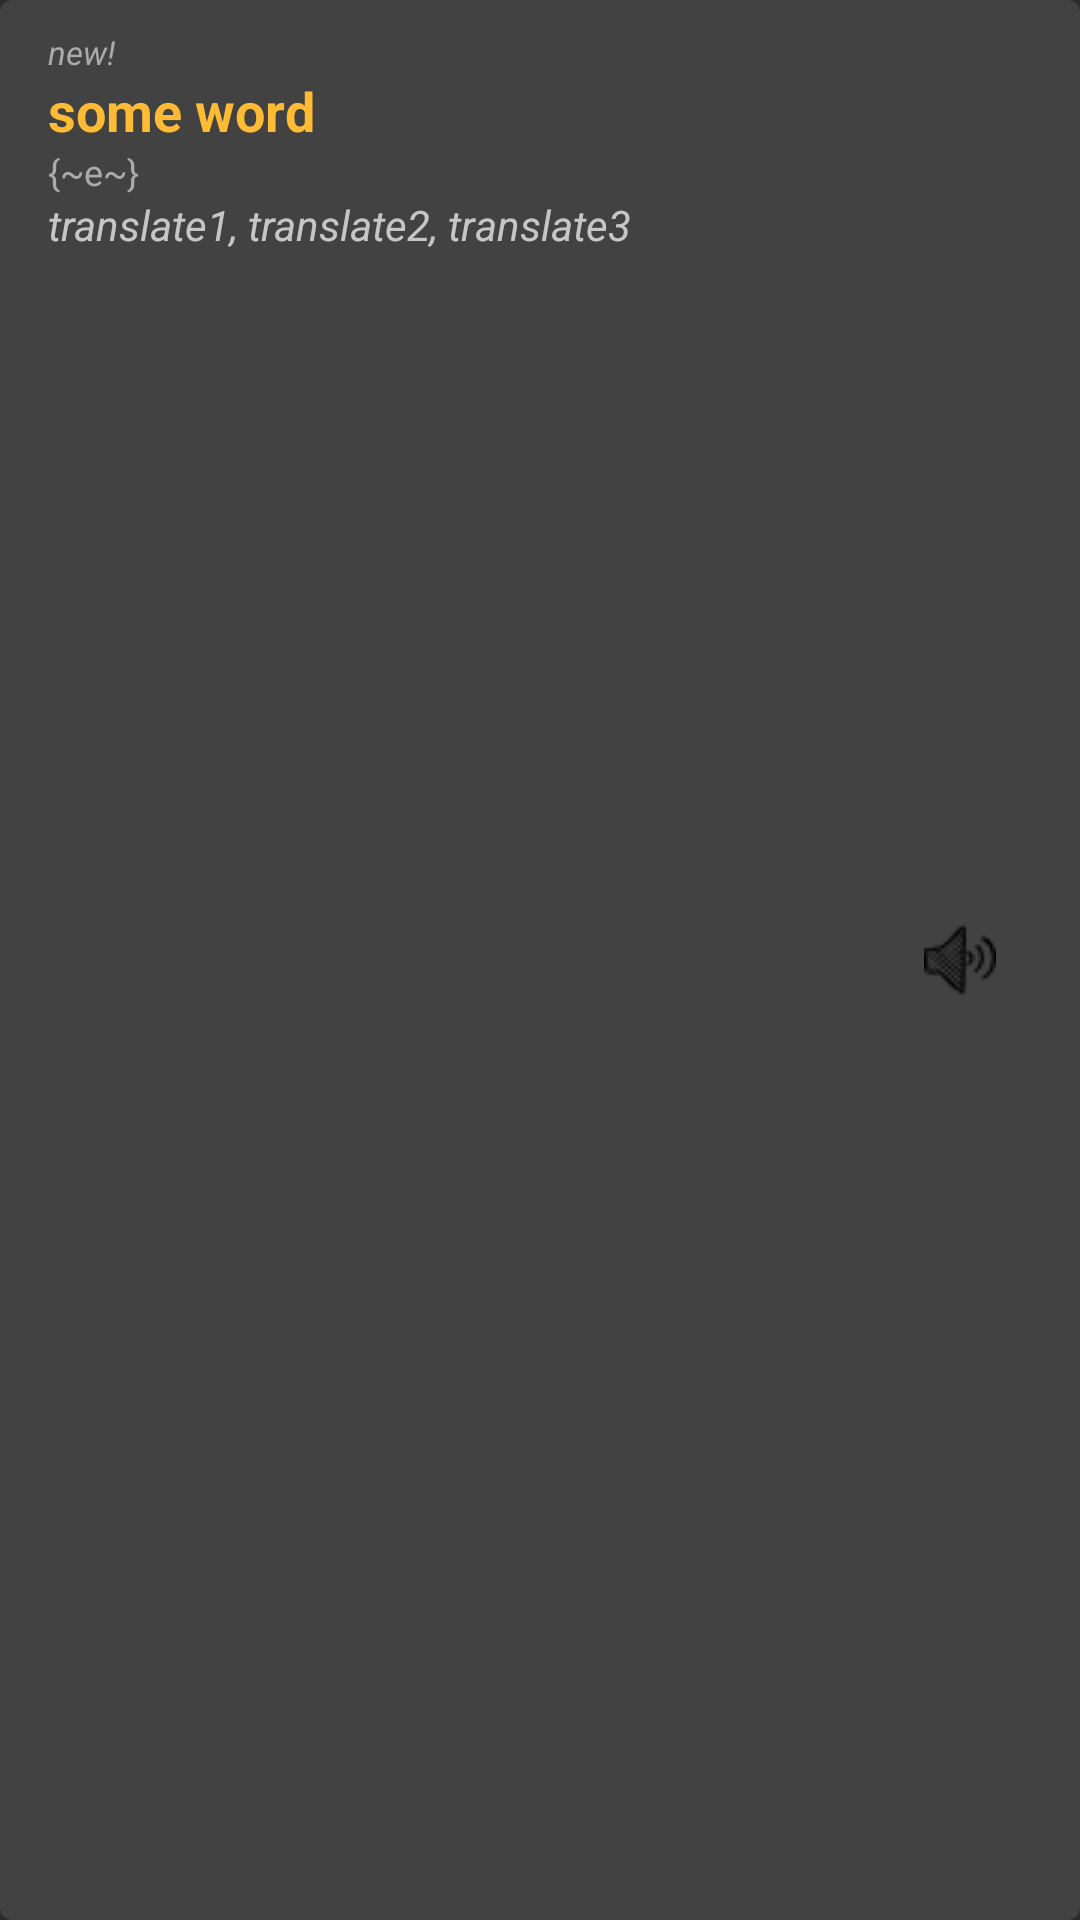

Icons on this 1080px×1920px Android screen, each with its box as (x1, y1, x2, y2):
play sound: (924, 927, 996, 994)
